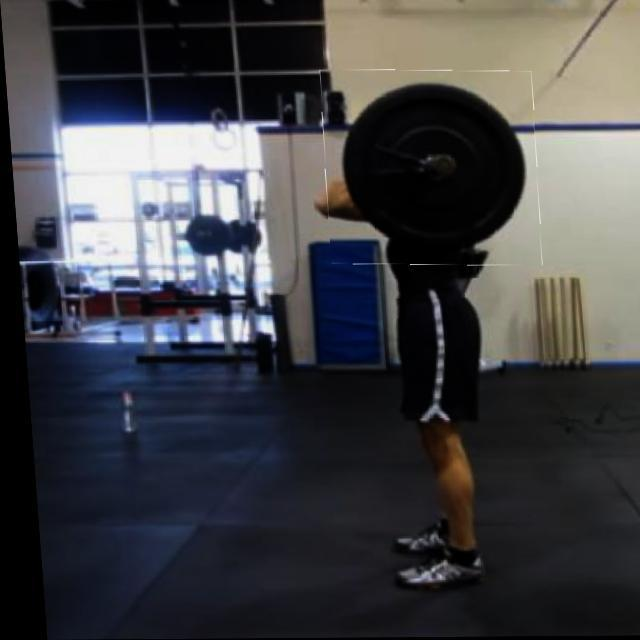barbell: (318, 71, 541, 268)
